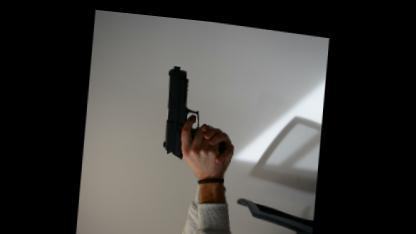pistol: (162, 61, 204, 158)
